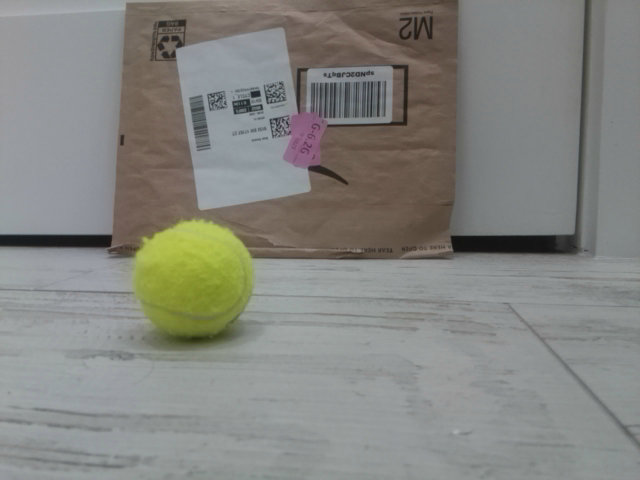yellow-ball: (131, 218, 255, 340)
